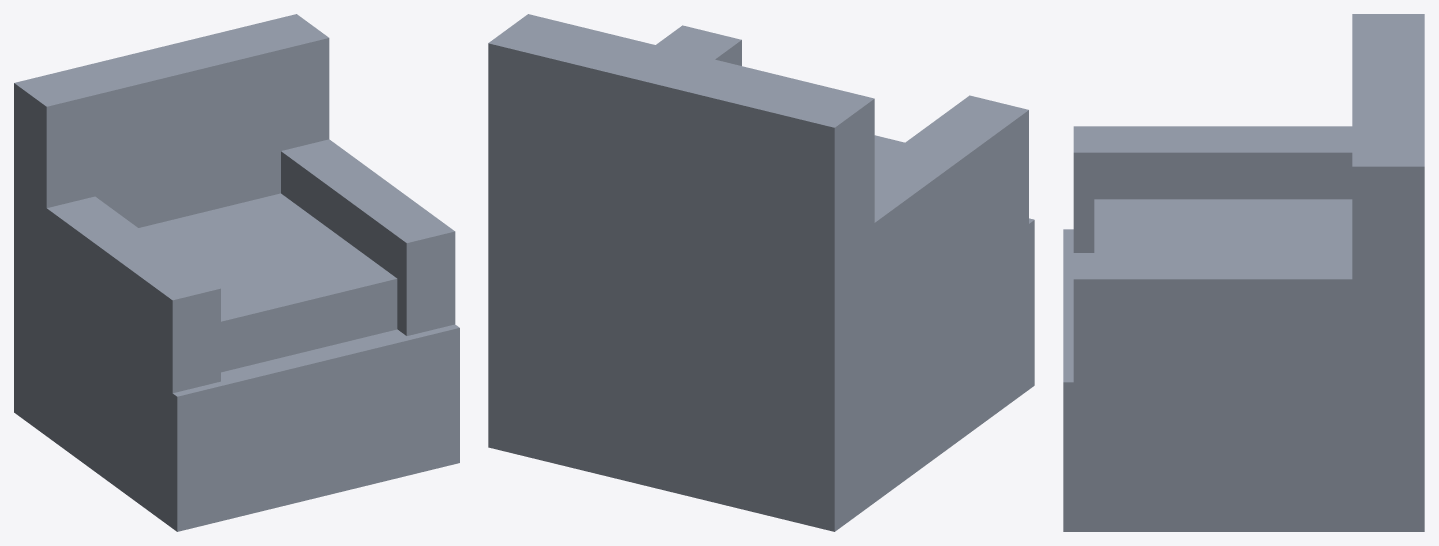
File: LoungeArmchair.glb
3 views of the same model, side by side, from view 1: azimuth 30°, elevation 25°; view 2: azimuth 150°, elevation 25°; view 3: azimuth 270°, elevation 25° (orthographic). The views are drawn at different scales.
Parts seen in each view (by area): view 1: LoungeArmchair; view 2: LoungeArmchair; view 3: LoungeArmchair.
Boxes of the visible parts, x1,y1,x2,y2 form: LoungeArmchair: (14,14,459,531); LoungeArmchair: (488,14,1034,531); LoungeArmchair: (1063,14,1424,531).
Size of the model in its own units: 0.7 by 0.78 by 0.7.
